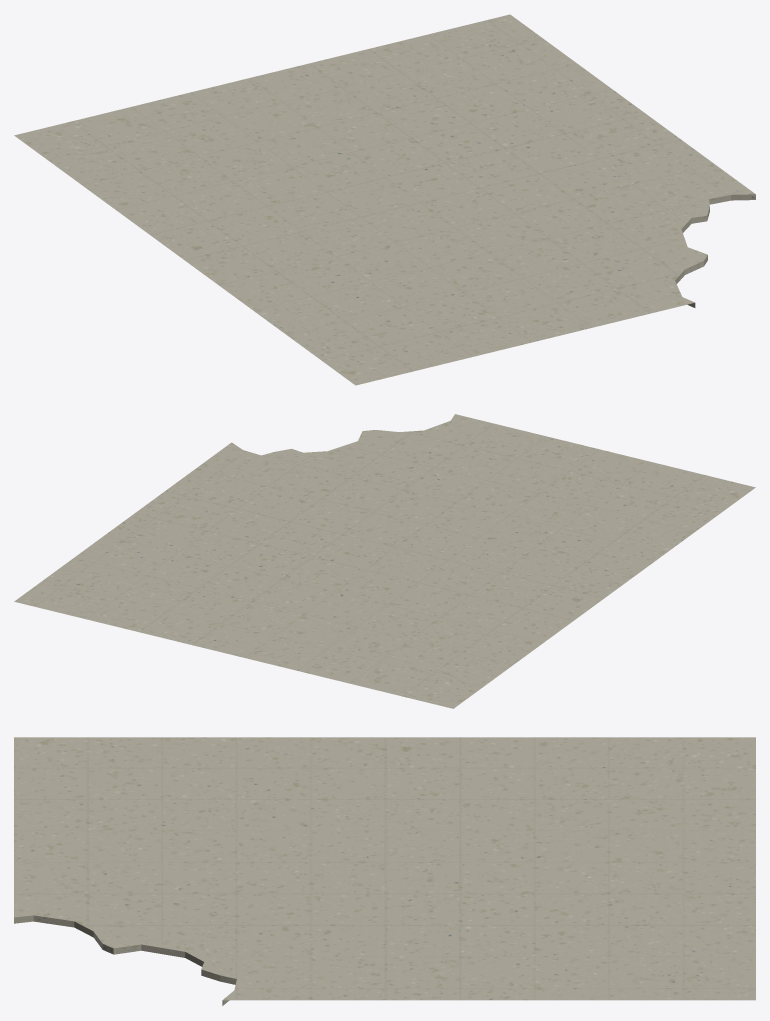
The model's file is PatientRoomFloor.fbx.
3 renders of one model, top to bottom at view 1: azimuth 30°, elevation 25°; view 2: azimuth 150°, elevation 25°; view 3: azimuth 270°, elevation 25°, orthographic. The views are drawn at different scales.
Visible parts, largest first — view 1: Floor_1:pCube3; view 2: Floor_1:pCube3; view 3: Floor_1:pCube3.
Boxes of the visible parts, <box> form: Floor_1:pCube3: <box>14,14,755,385</box>; Floor_1:pCube3: <box>14,414,755,708</box>; Floor_1:pCube3: <box>14,737,755,1005</box>.
Size of the model in its own units: 460 by 5.05 by 549.
Materials: 1 (1 with a texture image).
